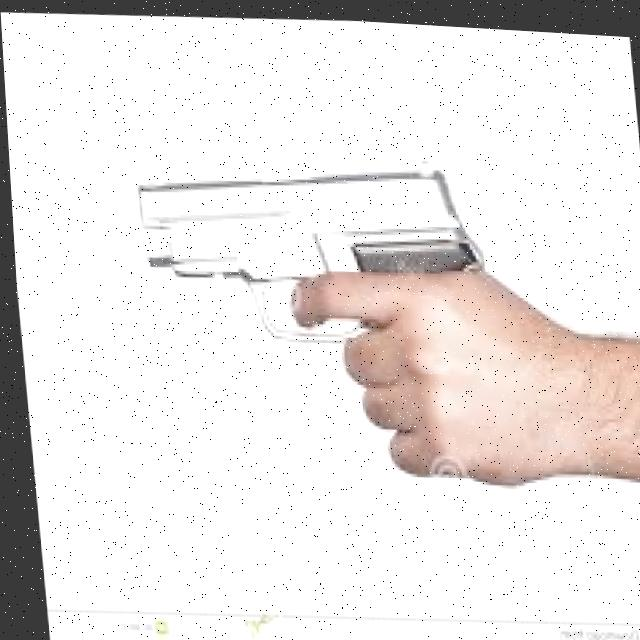pistol: (126, 130, 494, 355)
